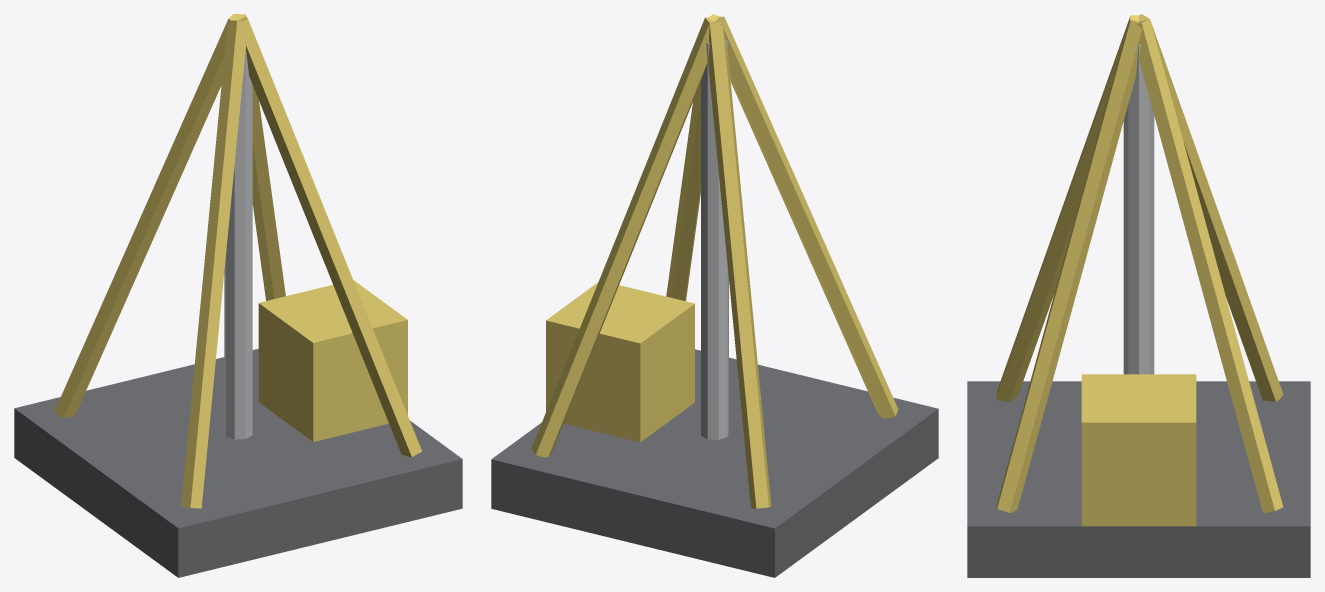
The model's file is deploy_drill.glb.
3 views of the same model, side by side, from view 1: azimuth 30°, elevation 25°; view 2: azimuth 150°, elevation 25°; view 3: azimuth 270°, elevation 25° (orthographic). The views are drawn at different scales.
Visible parts, largest first — view 1: deploy_drill; view 2: deploy_drill; view 3: deploy_drill.
Boxes of the visible parts, x1,y1,x2,y2 form: deploy_drill: (14,14,462,577); deploy_drill: (491,14,938,577); deploy_drill: (967,14,1310,577).
Size of the model in its own units: 1.8 by 2.82 by 1.8.
